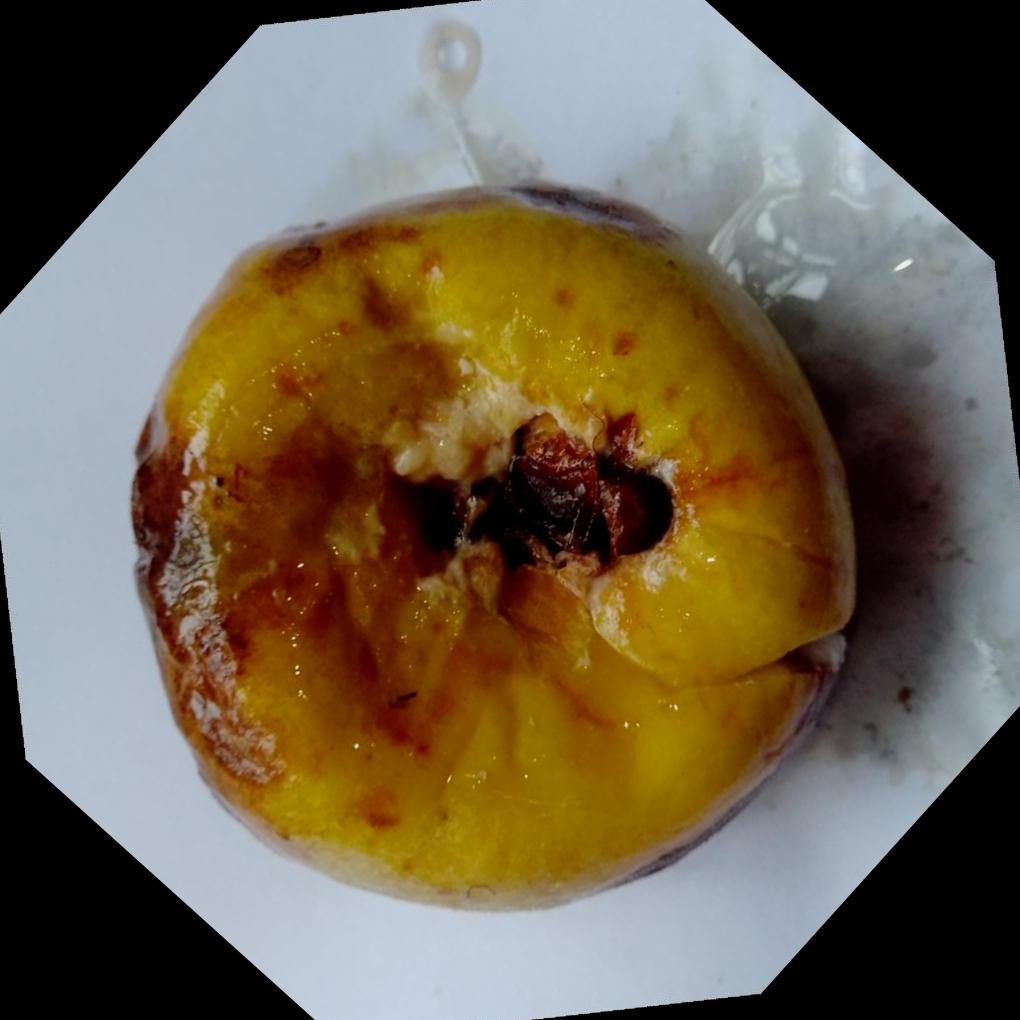FreshOrange: (130, 187, 862, 914)
